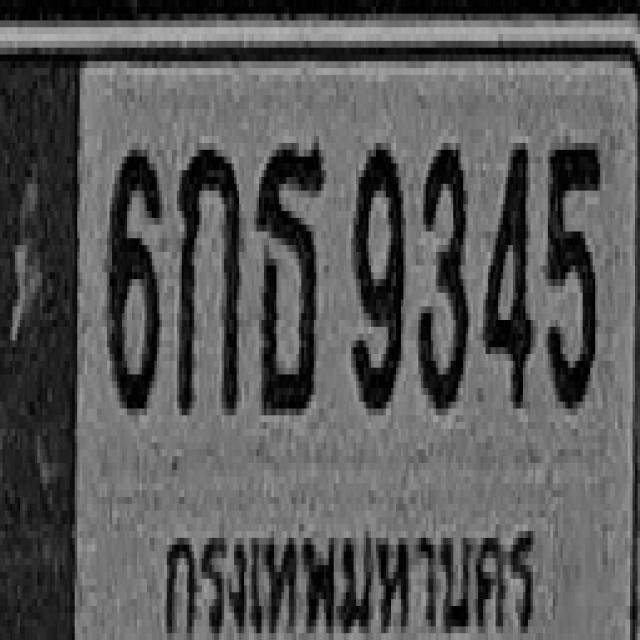10GorGai: (176, 143, 240, 415)
3: (417, 139, 467, 412)
33ThorThong: (255, 139, 325, 412)
4: (482, 140, 532, 405)
5: (546, 136, 600, 409)
6: (107, 143, 159, 408)
9: (351, 139, 404, 412)
Bangkok: (148, 501, 551, 640)
